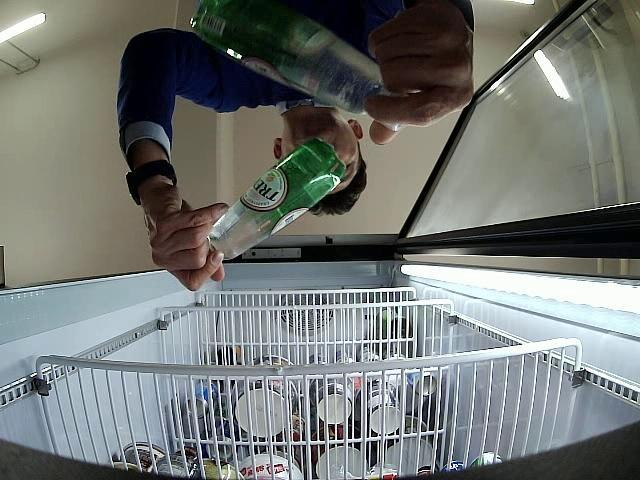18_trevi: (188, 0, 404, 131), (208, 141, 348, 260)
